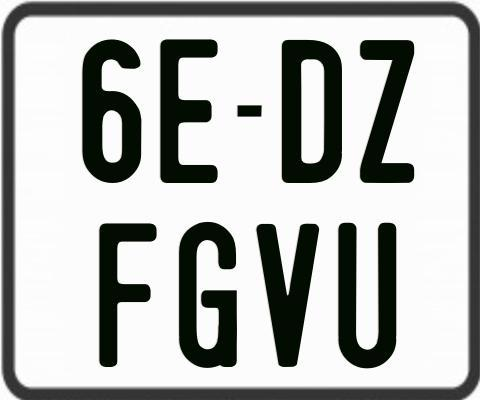6: (80, 36, 141, 180)
D: (279, 37, 339, 182)
E: (157, 39, 221, 184)
F: (97, 221, 159, 366)
G: (178, 221, 240, 367)
U: (337, 223, 401, 369)
V: (255, 221, 319, 368)
Z: (359, 37, 415, 183)
